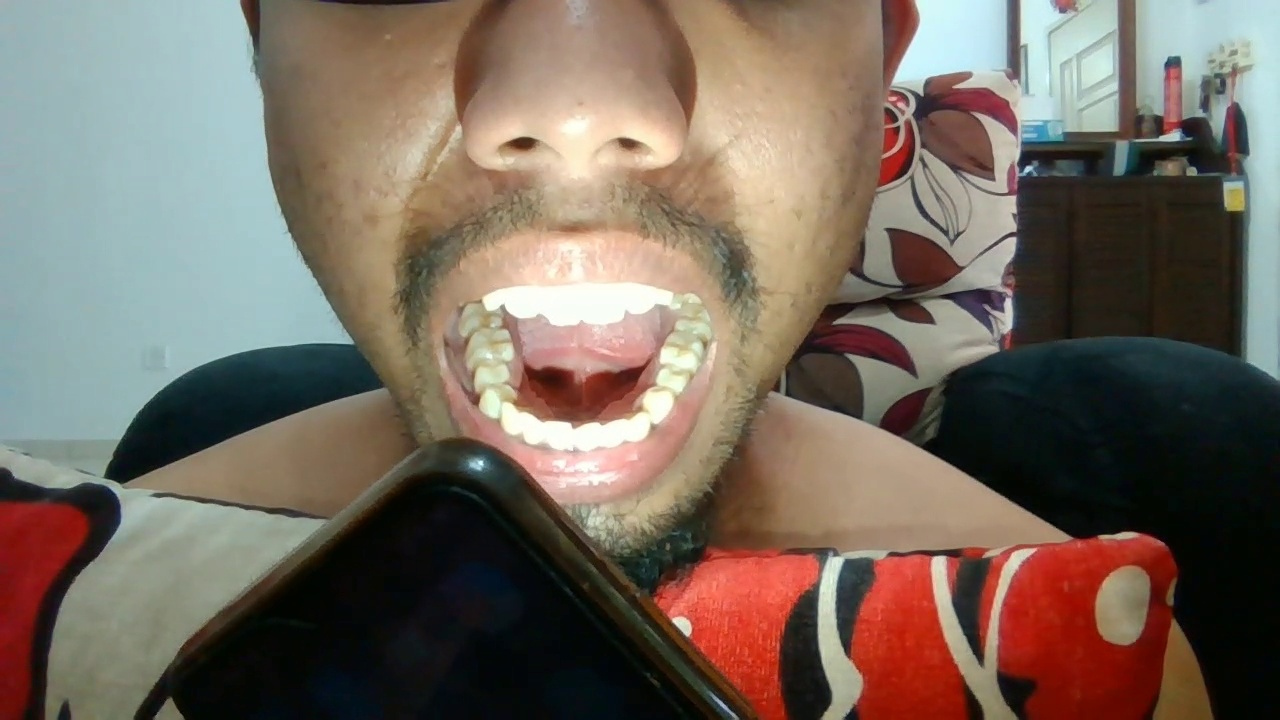1st Molar: (462, 329, 516, 362), (660, 334, 704, 366)
1st Premolar: (477, 384, 519, 417), (641, 387, 676, 423)
2nd Molar: (456, 303, 505, 332), (674, 304, 715, 337)
2nd Premolar: (471, 359, 512, 388), (655, 364, 694, 394)
Canine: (500, 400, 521, 435), (631, 410, 652, 443), (482, 287, 506, 311), (656, 284, 675, 304)
Central Incisor: (583, 281, 625, 326), (540, 284, 583, 326), (573, 422, 603, 452), (545, 419, 573, 451)
Lateral Incisor: (505, 285, 540, 319), (517, 412, 545, 448), (625, 282, 656, 314), (603, 419, 630, 451)
